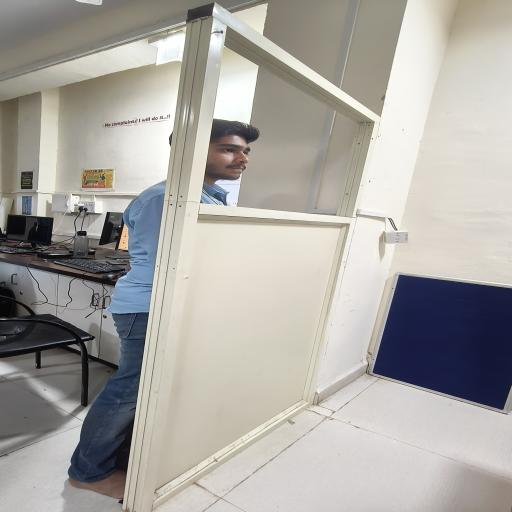survivor: (67, 118, 262, 501)
